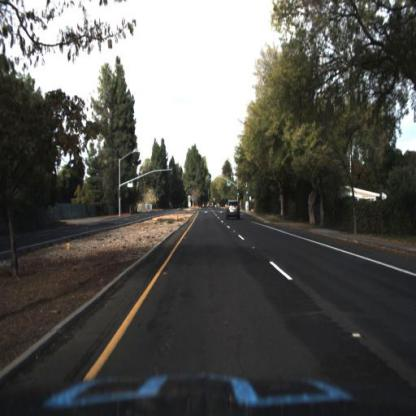car: (226, 199, 242, 222)
trafficLight-Green: (244, 183, 251, 198), (209, 173, 214, 186), (237, 188, 242, 200)
